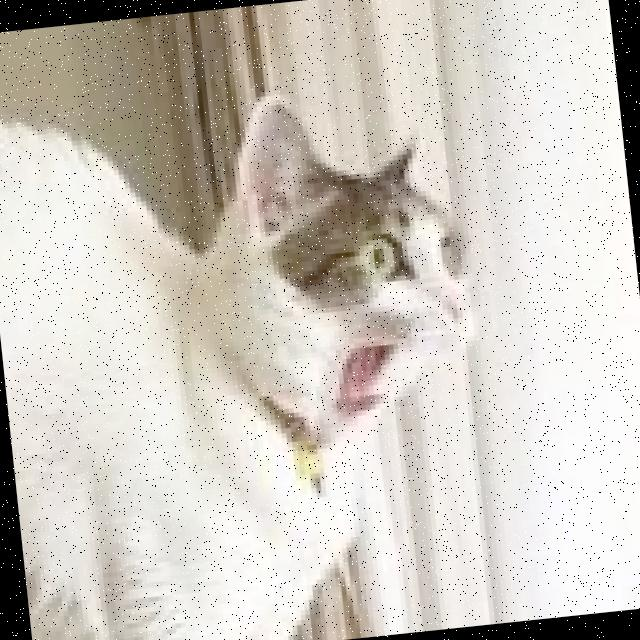Surprised: (279, 194, 490, 441)
